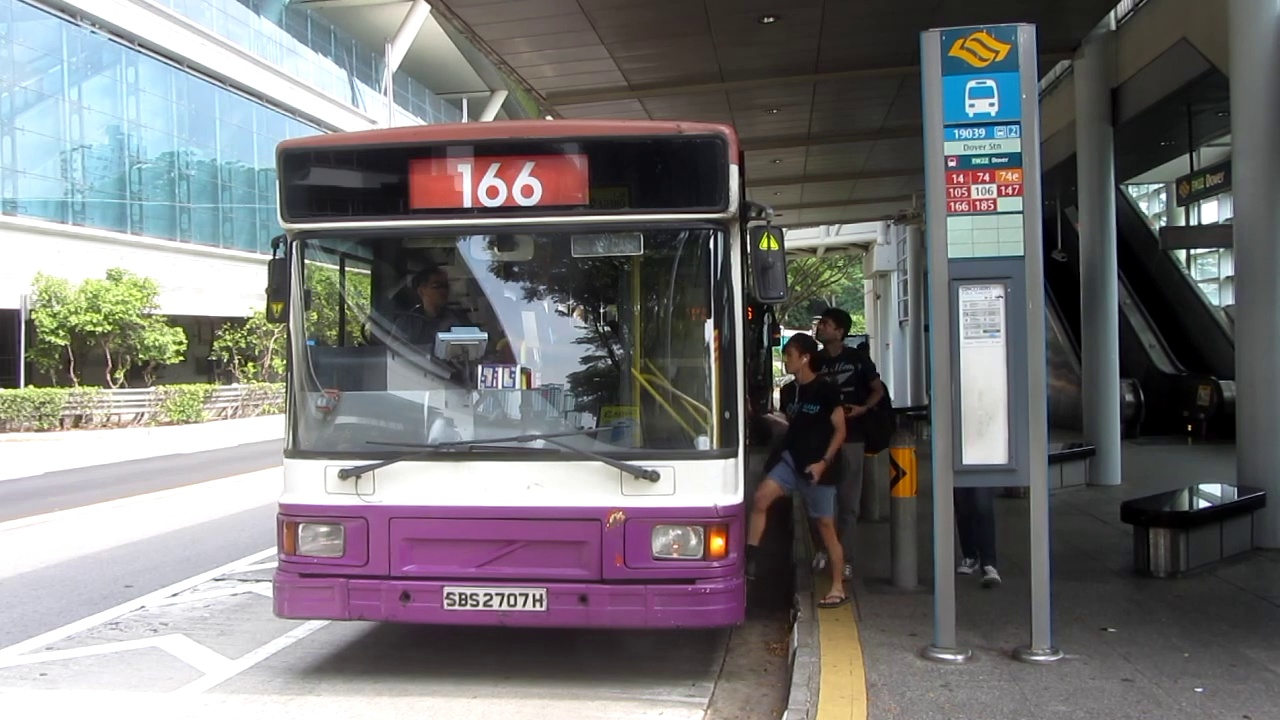bus panel: (405, 152, 594, 211)
